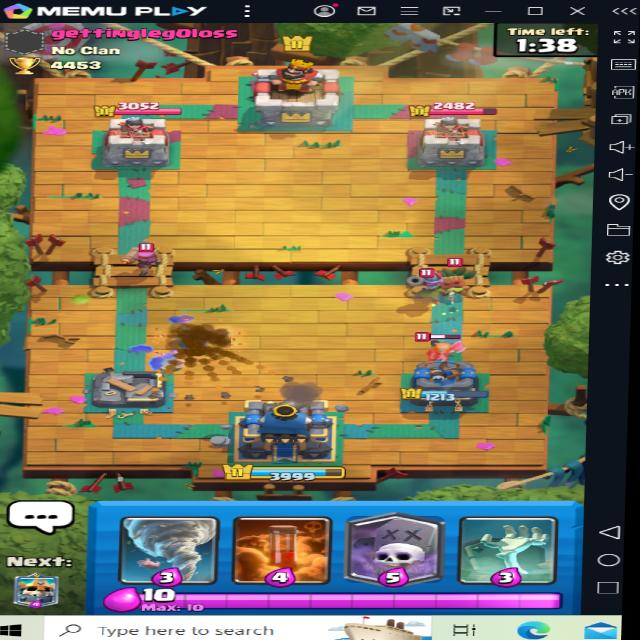dart-goblin: (435, 260, 483, 298)
firecracker: (114, 239, 164, 270)
musketeer: (410, 268, 446, 304)
valkyrie: (413, 324, 470, 362)
